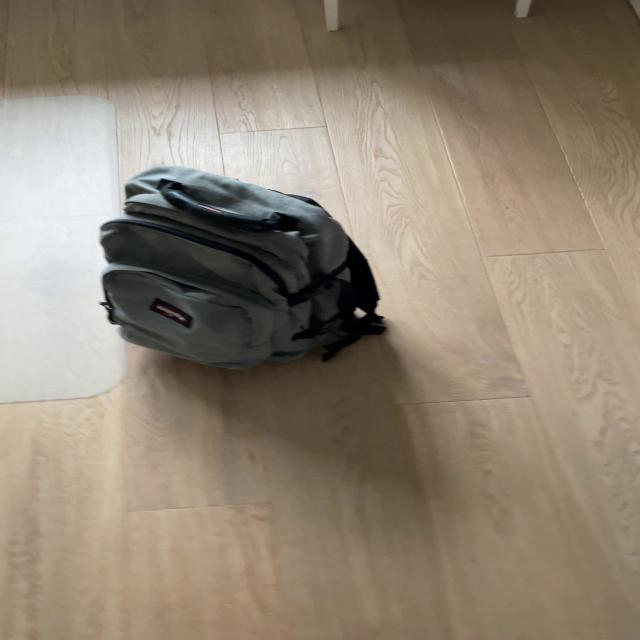backpack: (85, 157, 388, 375)
